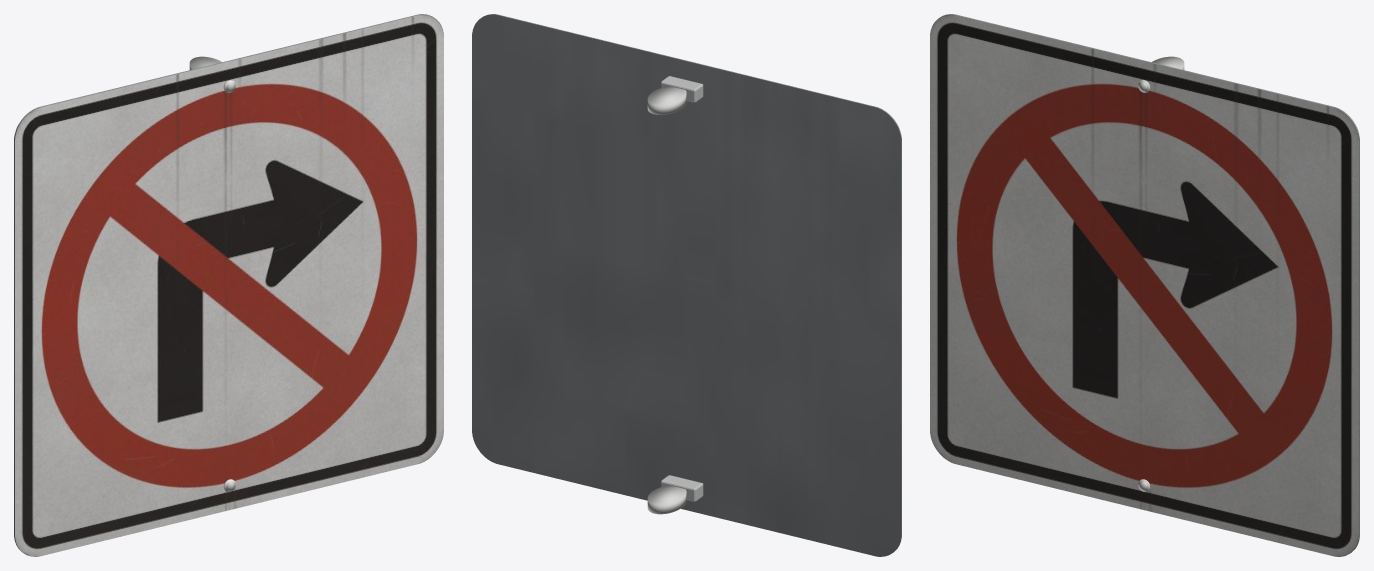
The model's file is noRightTurn-v1.glb.
3 views of the same model, side by side, from view 1: azimuth 30°, elevation 25°; view 2: azimuth 150°, elevation 25°; view 3: azimuth 330°, elevation 25° (orthographic).
Parts seen in each view (by area): view 1: noRightTurn-v1; view 2: noRightTurn-v1; view 3: noRightTurn-v1.
Boxes of the visible parts, left/top/right/bottom form: noRightTurn-v1: left=14, top=14, right=443, bottom=556; noRightTurn-v1: left=472, top=14, right=901, bottom=556; noRightTurn-v1: left=930, top=14, right=1359, bottom=556.
Bounding box in the file's own units: 0.6096 × 0.6096 × 0.0871.
1 material, 1 textured.
